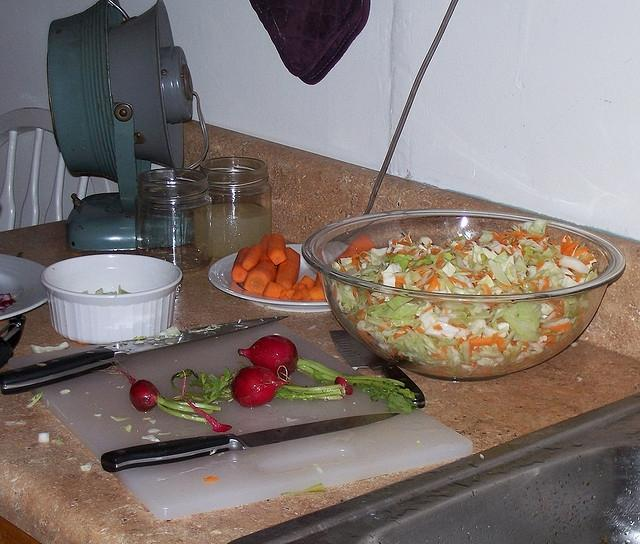carrot: (334, 235, 377, 264), (243, 261, 277, 295), (274, 248, 300, 290), (266, 232, 288, 266), (232, 246, 250, 284), (242, 243, 263, 272), (263, 282, 287, 298), (481, 284, 495, 308), (307, 286, 326, 300), (424, 301, 446, 312), (549, 322, 572, 332), (469, 336, 494, 345), (298, 276, 315, 289), (291, 288, 309, 300), (574, 246, 590, 258), (428, 273, 438, 292), (278, 289, 296, 299), (261, 234, 271, 251), (488, 332, 498, 346), (398, 248, 416, 255), (314, 274, 322, 288), (365, 291, 372, 306), (566, 235, 574, 248), (450, 322, 467, 328), (348, 315, 360, 323), (300, 292, 312, 300), (396, 276, 406, 285), (375, 296, 386, 304), (399, 326, 411, 333), (394, 333, 404, 340), (546, 342, 558, 347), (433, 324, 443, 330), (466, 238, 476, 244), (492, 232, 500, 238), (419, 271, 427, 277), (416, 256, 424, 262), (508, 248, 515, 254), (469, 361, 476, 367), (353, 288, 357, 297), (404, 236, 410, 242), (417, 326, 422, 332)
radish: (238, 335, 415, 399), (99, 362, 221, 422), (230, 366, 290, 408)
